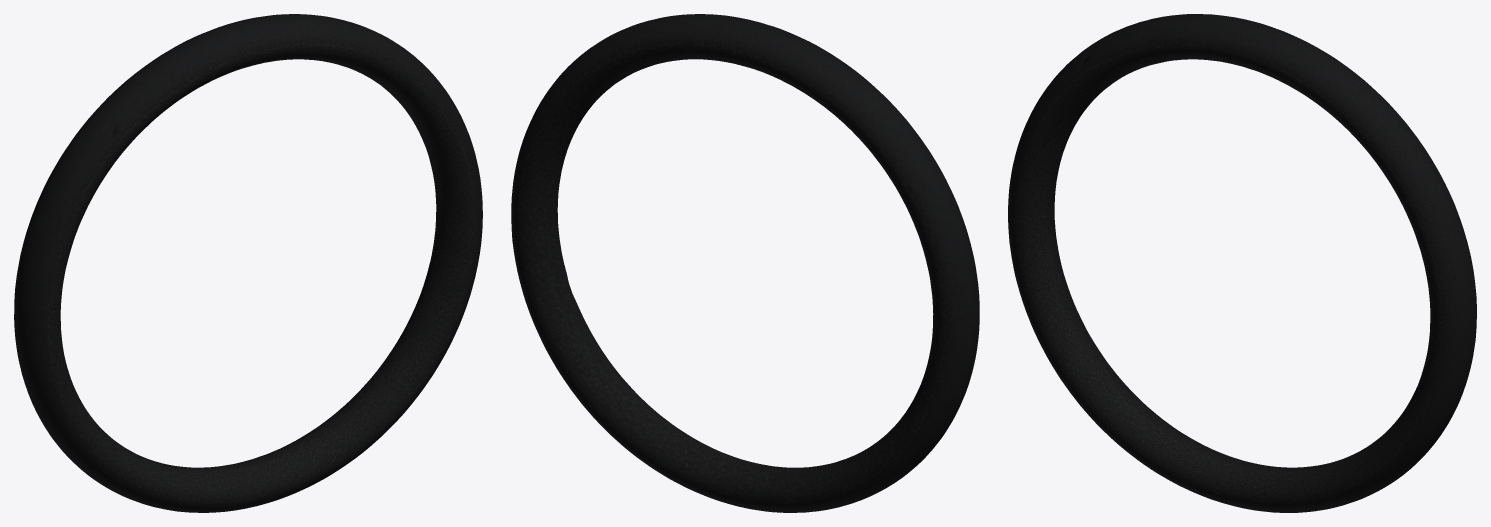
Rendered from ring_obsidian_game.glb.
3 views of the same model, side by side, from view 1: azimuth 30°, elevation 25°; view 2: azimuth 150°, elevation 25°; view 3: azimuth 330°, elevation 25° (orthographic).
Parts seen in each view (by area): view 1: Mesh_0; view 2: Mesh_0; view 3: Mesh_0.
Boxes of the visible parts, bbox=[...] form: Mesh_0: bbox=[14, 14, 482, 512]; Mesh_0: bbox=[511, 14, 979, 512]; Mesh_0: bbox=[1008, 14, 1476, 512].
Size of the model in its own units: 2.18 by 2.18 by 0.2288.
Materials: 1 (1 with a texture image).
